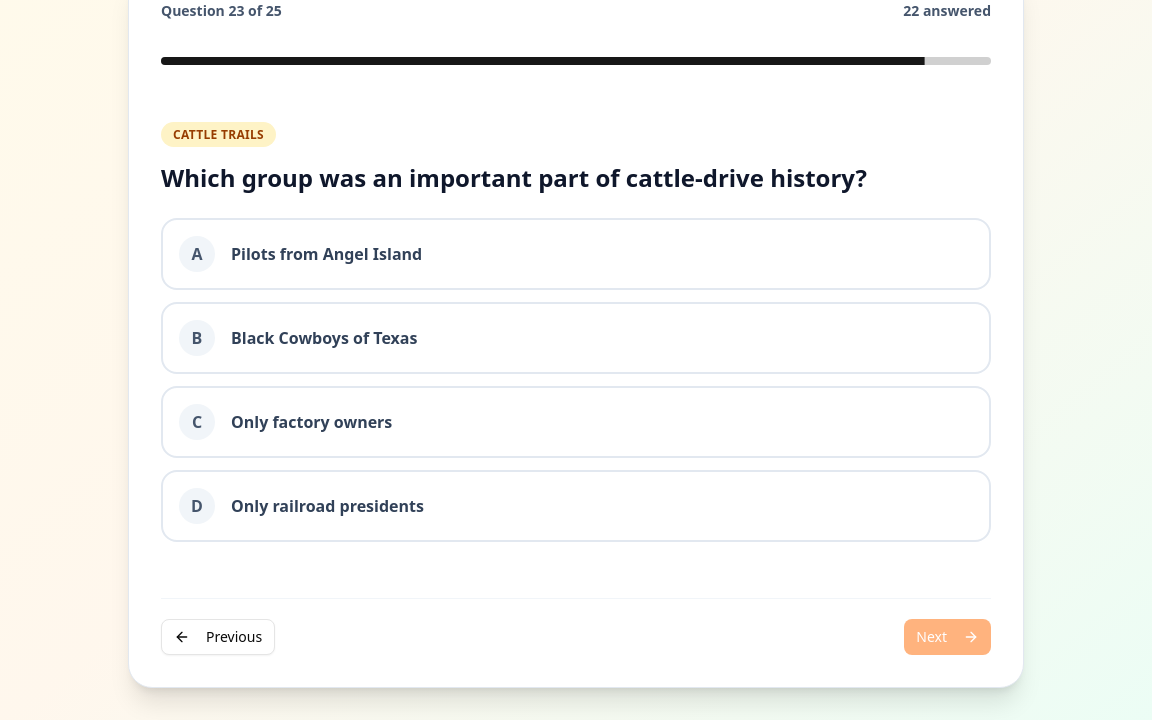
Test: Grade 5 Social Studies test runner › completes Chapter 7, saves the score, and displays answer review
Earlier steps of the test are not shown.
(page scrolled)
Step 1. Click the button "B Black Cowboys of Texas" → (197, 338), box x1=161 y1=302 x2=991 y2=374
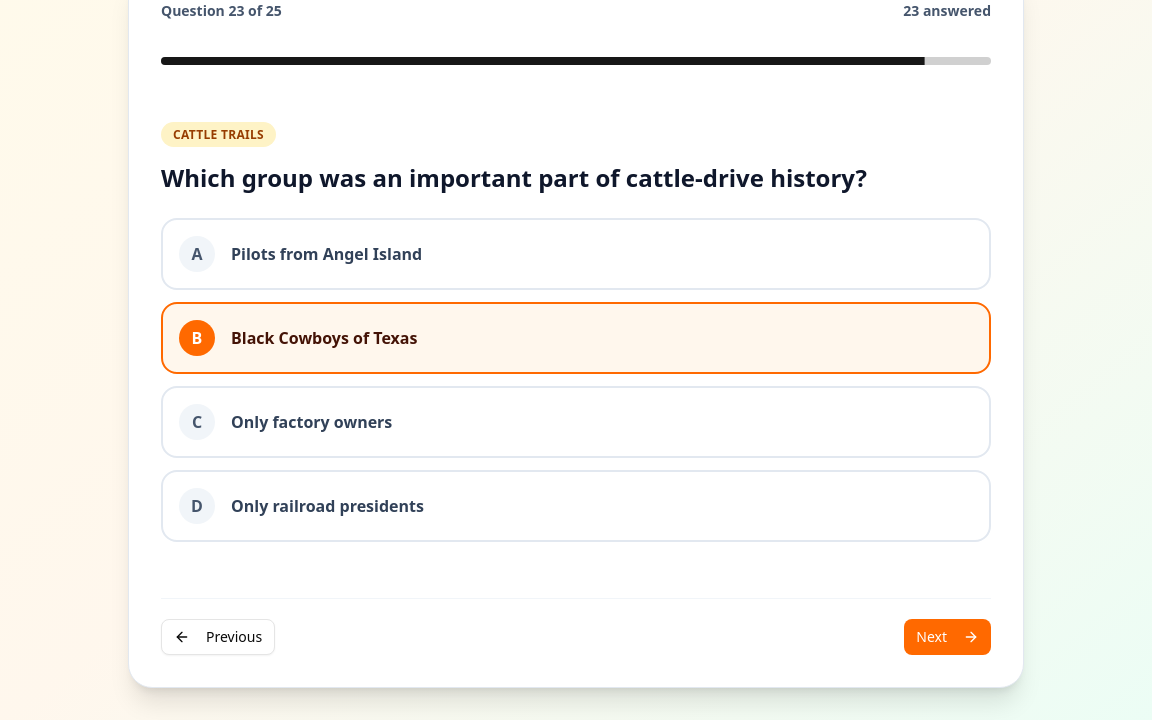
Step 2. Click the button "Next" → (948, 637), box x1=904 y1=619 x2=991 y2=655
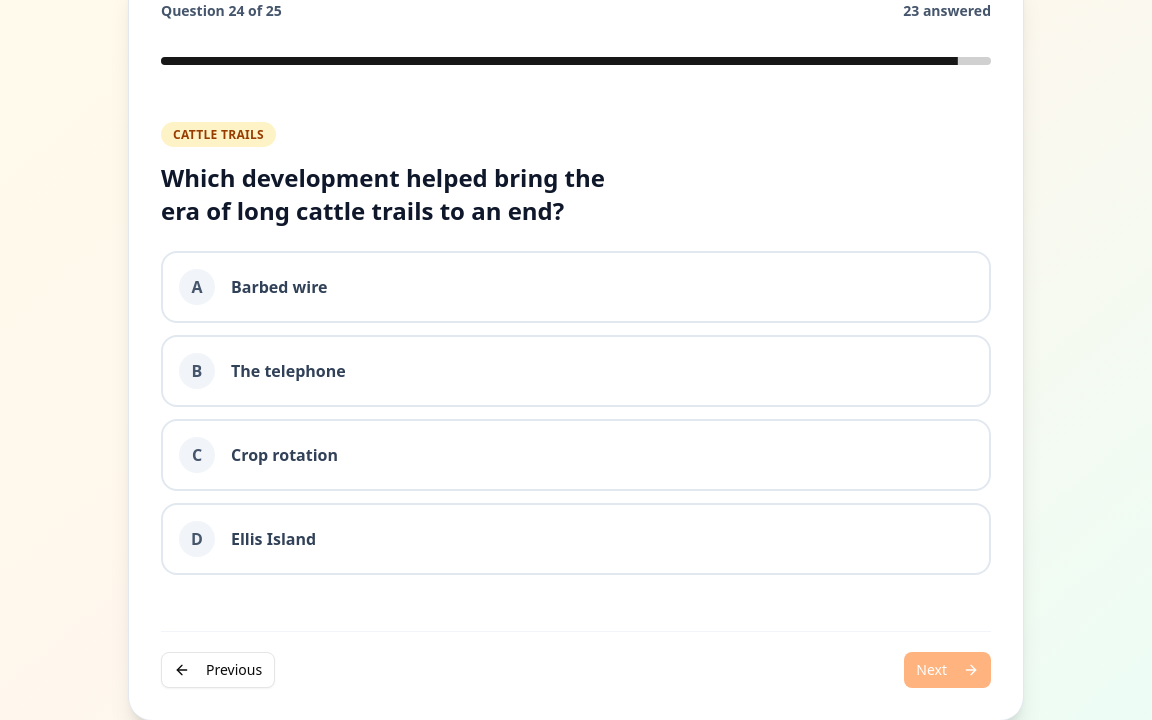
Step 3. Click the button "A Barbed wire" → (197, 287), box x1=161 y1=251 x2=991 y2=323
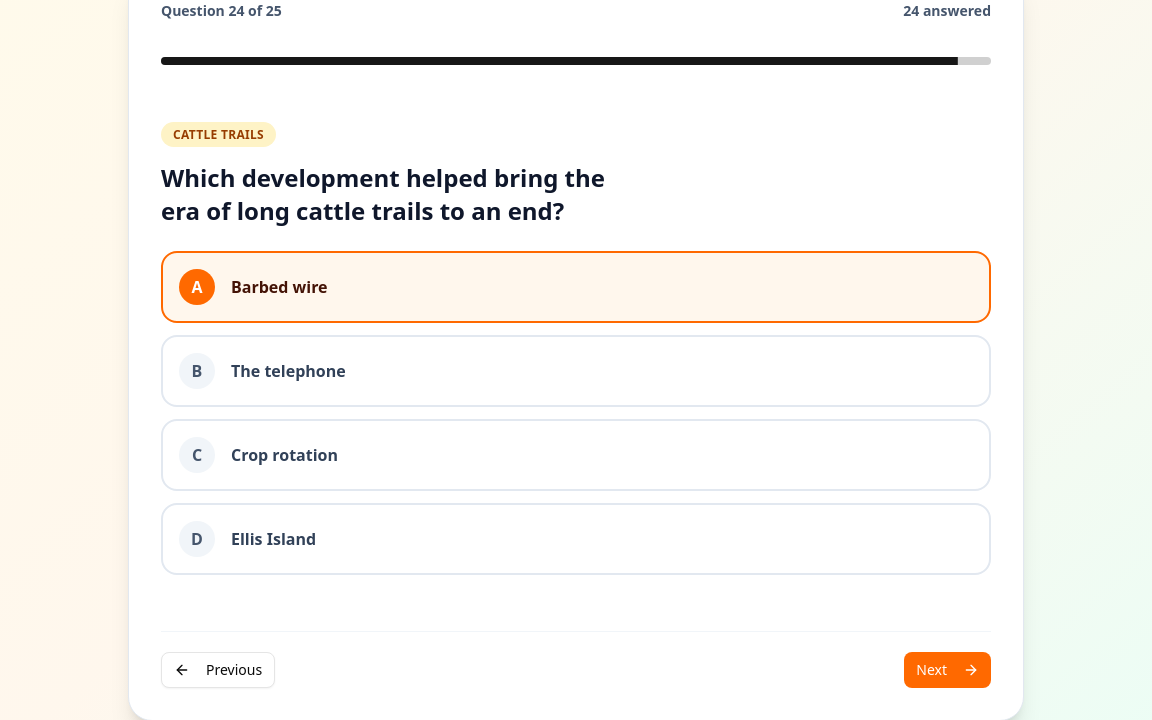
Step 4. Click the button "Next" → (948, 670), box x1=904 y1=652 x2=991 y2=688
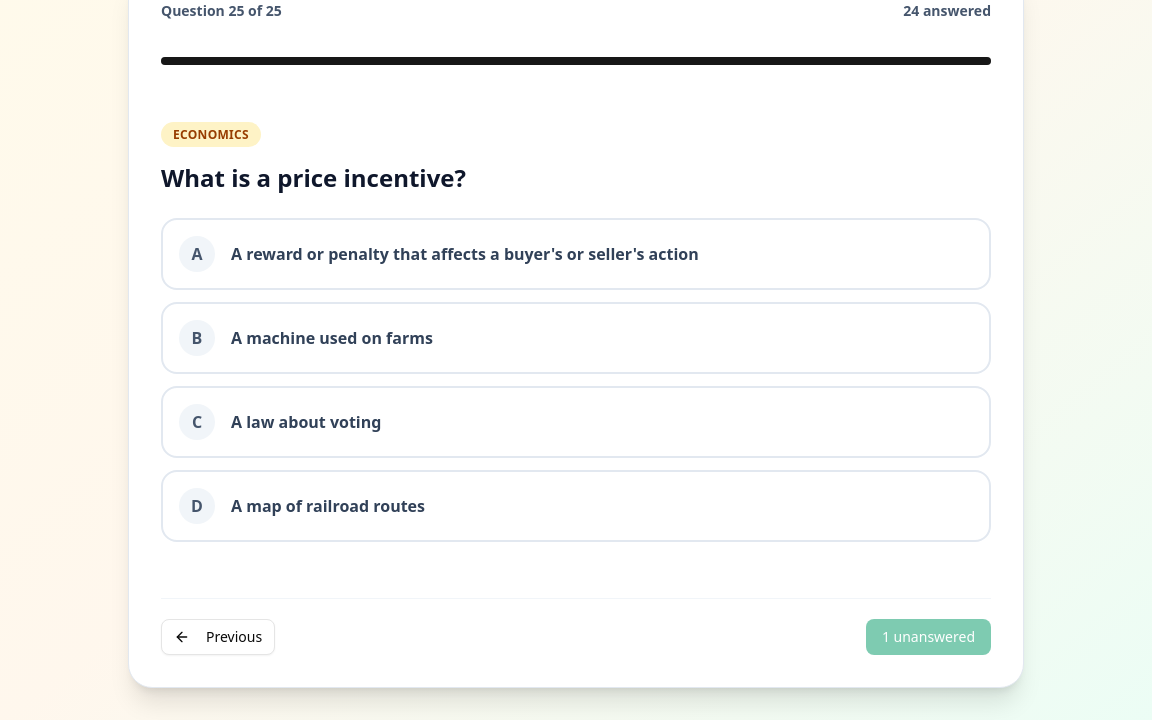
Step 5. Click the 1st button → (576, 254), box x1=161 y1=218 x2=991 y2=290
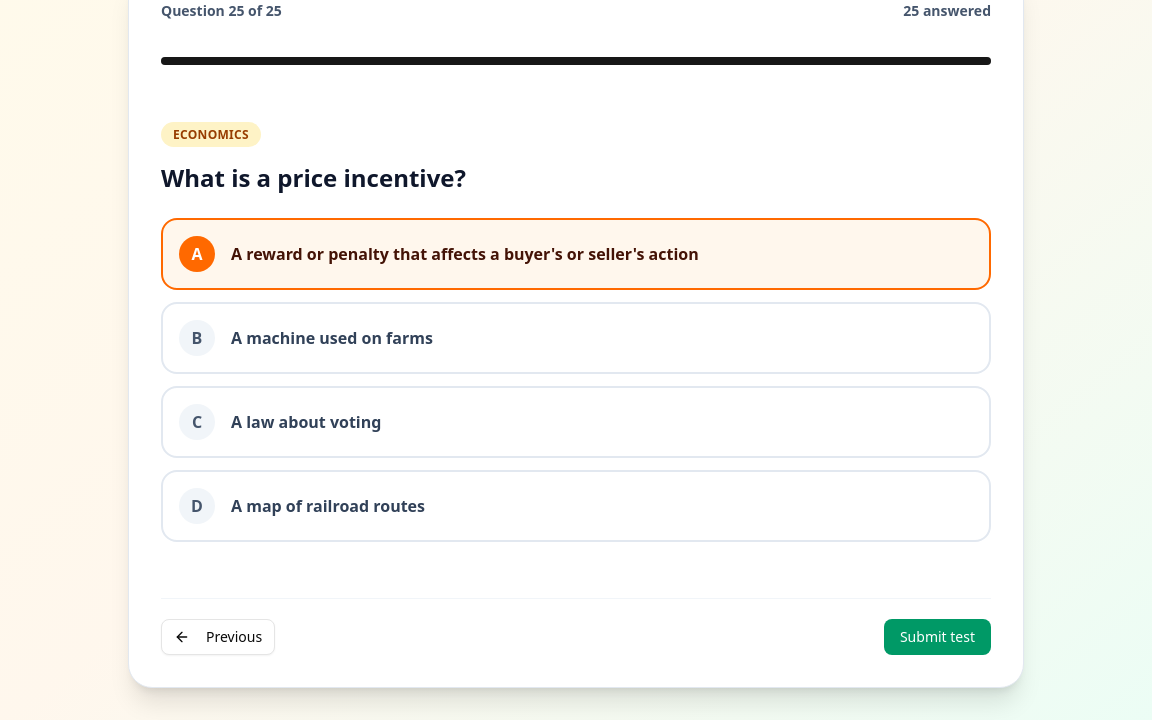
Step 6. Click the button "Submit test" → (937, 637), box x1=884 y1=619 x2=991 y2=655
(page scrolled)
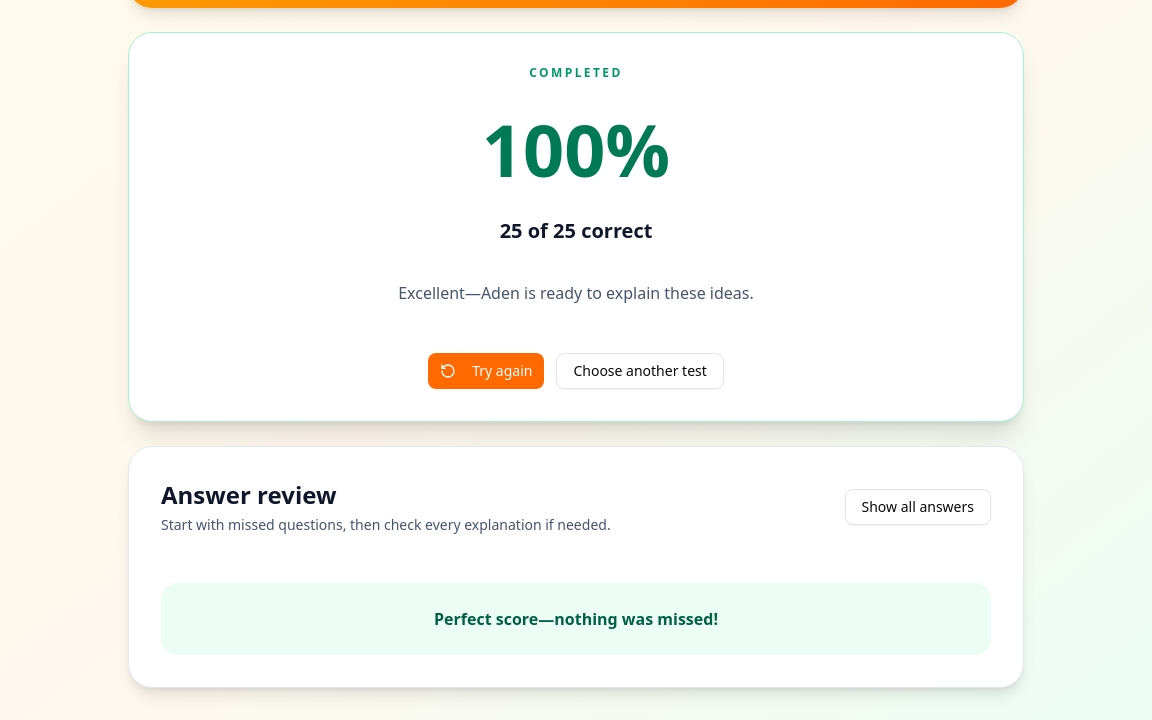
Expected: the text "100%" is shown, x1=482 y1=100 x2=670 y2=198
Expected: the text "Perfect score—nothing was missed!" is shown, x1=161 y1=583 x2=991 y2=655
